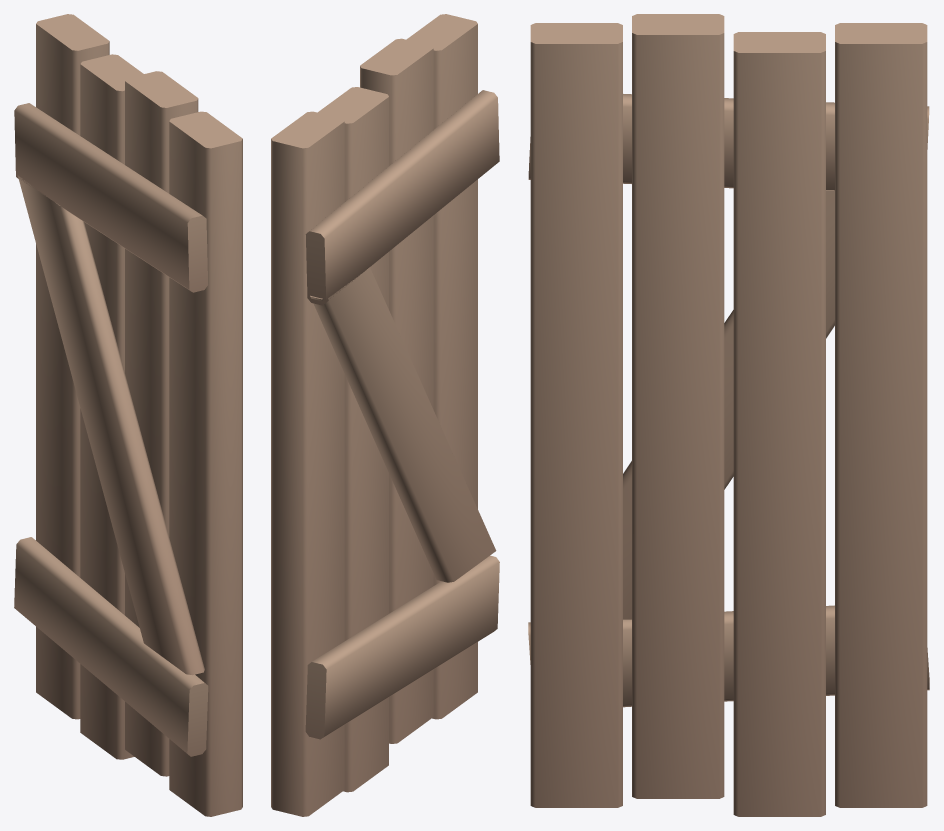
Rendered from shutter-classic-rustic-cross (%wall).glb.
3 renders of one model, left to right at view 1: azimuth 30°, elevation 25°; view 2: azimuth 150°, elevation 25°; view 3: azimuth 270°, elevation 25°, orthographic. The views are drawn at different scales.
Visible parts, largest first — view 1: shutter-classic-rustic-cross (%wall); view 2: shutter-classic-rustic-cross (%wall); view 3: shutter-classic-rustic-cross (%wall).
Boxes of the visible parts, x1,y1,x2,y2 form: shutter-classic-rustic-cross (%wall): [14, 14, 242, 816]; shutter-classic-rustic-cross (%wall): [271, 14, 499, 816]; shutter-classic-rustic-cross (%wall): [528, 14, 929, 816].
Bounding box in the file's own units: 0.075 × 0.87 × 0.4049.
